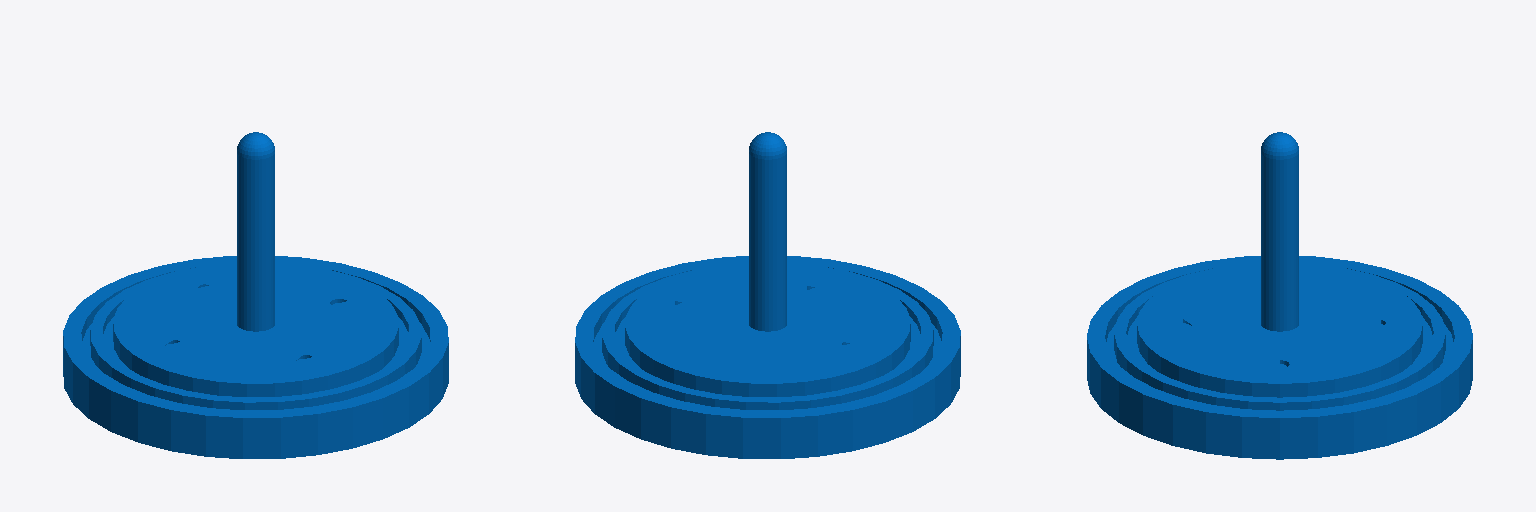
File: puck2.obj
3 renders of one model, left to right at view 1: azimuth 30°, elevation 25°; view 2: azimuth 150°, elevation 25°; view 3: azimuth 270°, elevation 25°, orthographic.
Parts seen in each view (by area): view 1: puck_Sphere; view 2: puck_Sphere; view 3: puck_Sphere.
Boxes of the visible parts, box(x1,y1,x2,y2) form: puck_Sphere: box(63, 132, 448, 458); puck_Sphere: box(575, 132, 960, 458); puck_Sphere: box(1087, 132, 1472, 459).
Bounding box in the file's own units: 2 × 1.39 × 2.